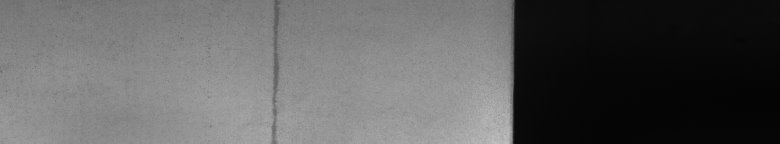hd: (266, 4, 283, 136)
